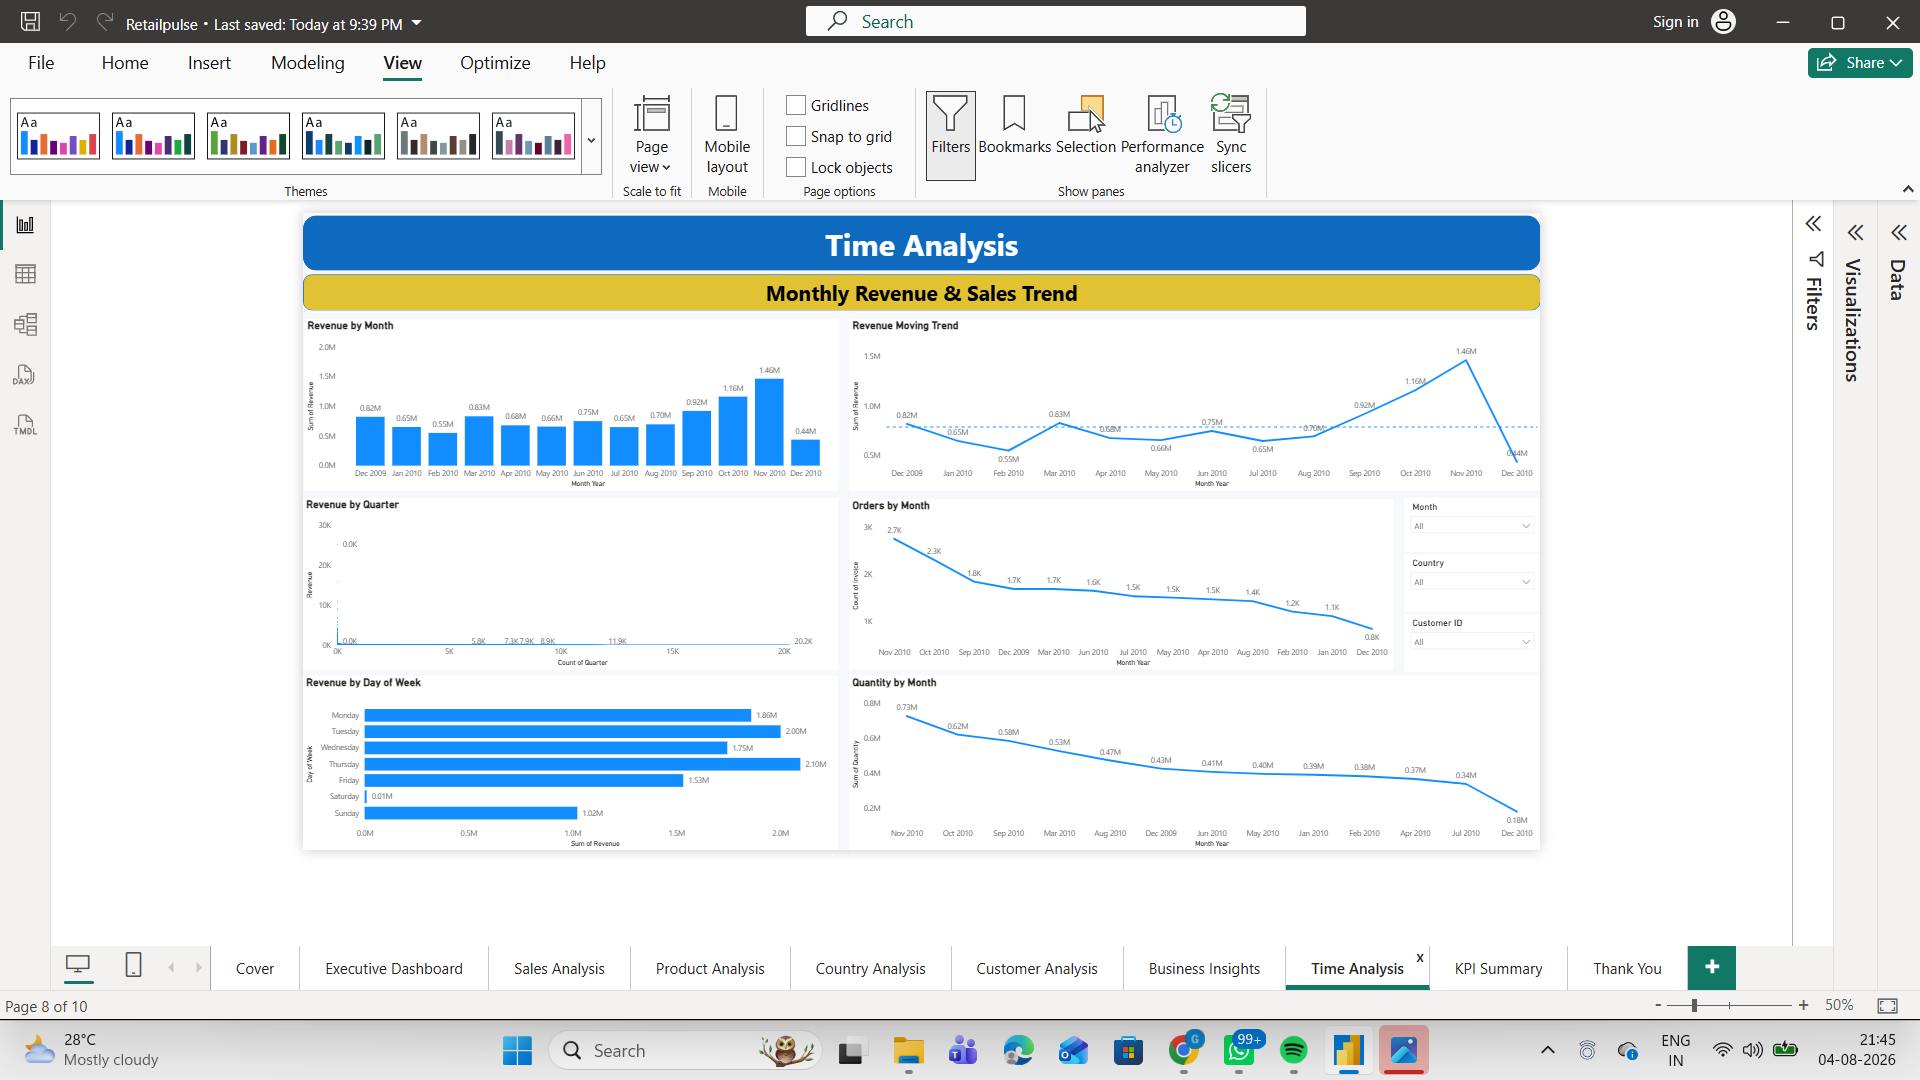

The page's visual inventory and layout, read from the dashboard file:
{"tool":"powerbi","page":{"name":"Time Analysis","canvas":[1980,1020],"ordinal":8},"visuals":[{"type":"clusteredColumnChart","title":"Revenue by Month","fields":{"Category":["cleaned_online_retail.Month Year","cleaned_online_retail.Month.Variation.Date Hierarchy.Year","cleaned_online_retail.Month.Variation.Date Hierarchy.Quarter","cleaned_online_retail.Month.Variation.Date Hierarchy.Month","cleaned_online_retail.Month.Variation.Date Hierarchy.Day"],"Y":["Sum(cleaned_online_retail.Revenue)"]},"box":[2,170,854,274],"z":0},{"type":"clusteredBarChart","title":"Revenue by Day of Week","fields":{"Category":["cleaned_online_retail.Day of Week"],"Y":["Sum(cleaned_online_retail.Revenue)"]},"box":[0,740,856,280],"z":1000},{"type":"clusteredBarChart","title":"Revenue by Quarter","fields":{"Category":["cleaned_online_retail.Revenue"],"Y":["CountNonNull(cleaned_online_retail.Quarter)"]},"box":[0,456,856,274],"z":2000},{"type":"lineChart","title":"Quantity by Month","fields":{"Category":["cleaned_online_retail.Month Year"],"Y":["Sum(cleaned_online_retail.Quantity)"]},"box":[874,740,1106,280],"z":3000},{"type":"lineChart","title":"Orders by Month","fields":{"Category":["cleaned_online_retail.Month Year"],"Y":["Count(cleaned_online_retail.Invoice)"]},"box":[874,458,870,272.5],"z":4000},{"type":"lineChart","title":"Revenue Moving Trend","fields":{"Category":["cleaned_online_retail.Month Year","cleaned_online_retail.Month.Variation.Date Hierarchy.Year","cleaned_online_retail.Month.Variation.Date Hierarchy.Quarter","cleaned_online_retail.Month.Variation.Date Hierarchy.Month","cleaned_online_retail.Month.Variation.Date Hierarchy.Day"],"Y":["Sum(cleaned_online_retail.Revenue)"]},"box":[874,170,1106,274],"z":5000},{"type":"slicer","fields":{"Values":["cleaned_online_retail.Month"]},"box":[1762,456,218,86],"z":6000},{"type":"slicer","fields":{"Values":["cleaned_online_retail.Country"]},"box":[1762,546,218,92],"z":7000},{"type":"shape","box":[0,4,1980,88],"z":8000},{"type":"shape","box":[0,98,1980,58],"z":9000},{"type":"slicer","fields":{"Values":["cleaned_online_retail.Customer ID"]},"box":[1762,642,218,92],"z":10000}]}

Visuals, with their boxes on the page's 1980x1020 design canvas (x1, y1, x2, y2). These are canvas units, not pixel positions in the 1920x1080 screenshot, which may show the page scaled, cropped or inside an application window:
"Revenue by Month" clusteredColumnChart: [x1=2, y1=170, x2=856, y2=444]
"Revenue by Day of Week" clusteredBarChart: [x1=0, y1=740, x2=856, y2=1020]
"Revenue by Quarter" clusteredBarChart: [x1=0, y1=456, x2=856, y2=730]
"Quantity by Month" lineChart: [x1=874, y1=740, x2=1980, y2=1020]
"Orders by Month" lineChart: [x1=874, y1=458, x2=1744, y2=730]
"Revenue Moving Trend" lineChart: [x1=874, y1=170, x2=1980, y2=444]
slicer - cleaned_online_retail.Month: [x1=1762, y1=456, x2=1980, y2=542]
slicer - cleaned_online_retail.Country: [x1=1762, y1=546, x2=1980, y2=638]
shape: [x1=0, y1=4, x2=1980, y2=92]
shape: [x1=0, y1=98, x2=1980, y2=156]
slicer - cleaned_online_retail.Customer ID: [x1=1762, y1=642, x2=1980, y2=734]
